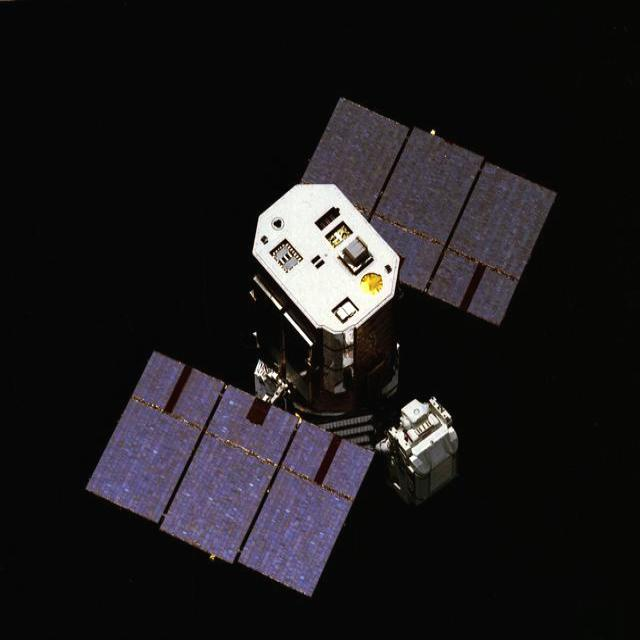medium_debris: (88, 99, 555, 595)
